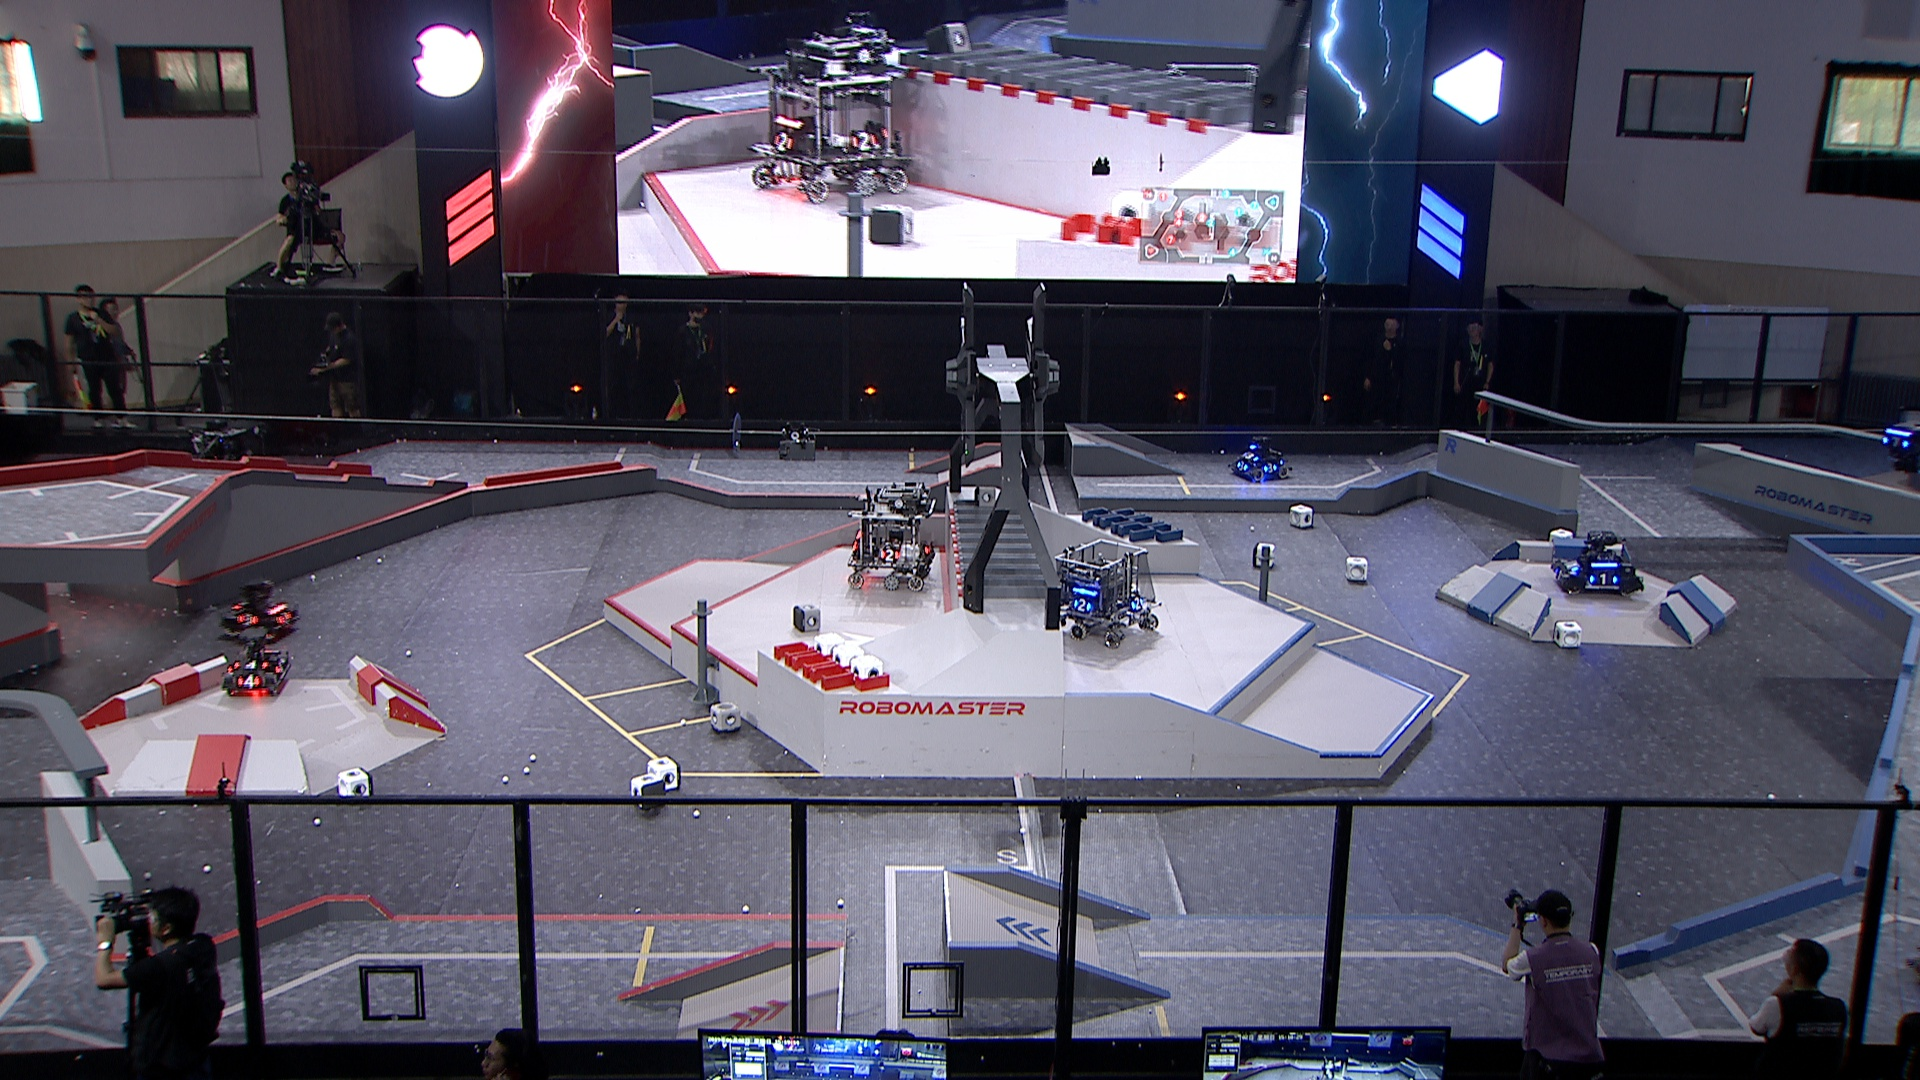armor: (237, 674, 261, 692), (233, 659, 269, 671), (1882, 434, 1909, 448), (233, 612, 258, 628), (1588, 574, 1619, 585), (1073, 597, 1093, 613), (880, 547, 901, 562), (276, 609, 294, 624), (1551, 564, 1565, 583), (1262, 462, 1280, 475), (1242, 450, 1262, 462), (273, 661, 287, 676), (1130, 597, 1147, 611), (1563, 556, 1578, 570), (1237, 458, 1249, 471)
car: (1050, 534, 1162, 647), (845, 480, 942, 591), (182, 419, 261, 505), (1547, 529, 1643, 599), (219, 626, 294, 694), (220, 578, 297, 641), (1229, 433, 1294, 485)
ignore: (745, 22, 913, 202)
watcher: (1878, 411, 1920, 477)
